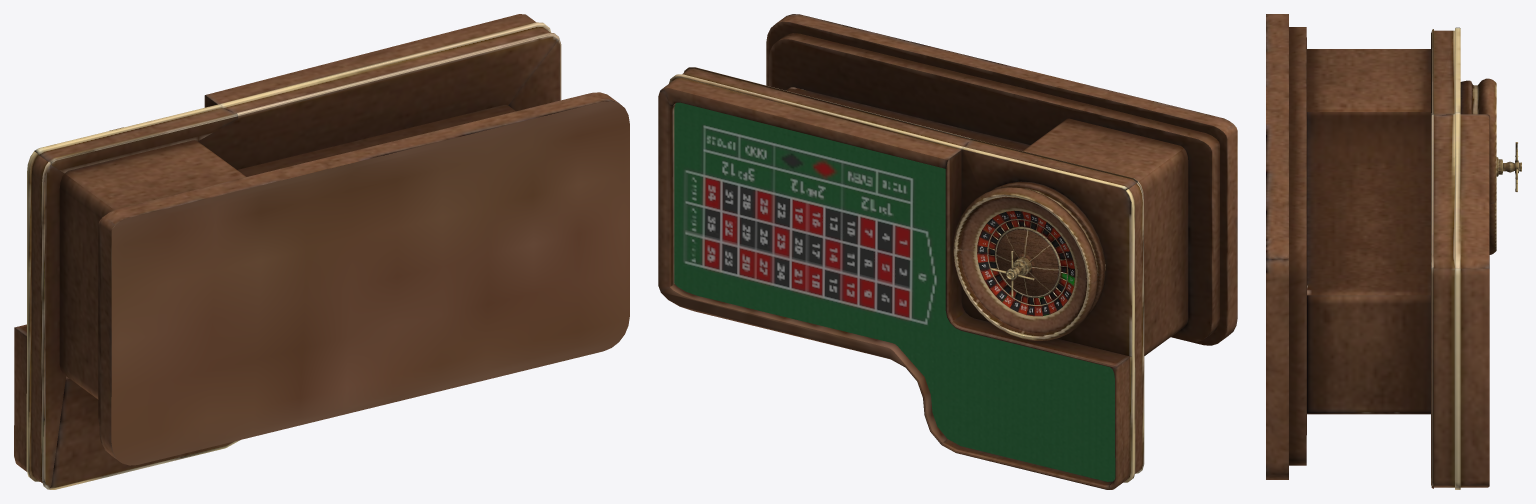
The model's file is Roulette.fbx.
3 views of the same model, side by side, from view 1: azimuth 30°, elevation 25°; view 2: azimuth 150°, elevation 25°; view 3: azimuth 270°, elevation 25° (orthographic). The views are drawn at different scales.
Visible parts, largest first — view 1: Table_003; view 2: Table_003; view 3: Table_003.
Part boxes in pixels (x1=…): Table_003: x1=14, y1=14, x2=629, y2=489; Table_003: x1=658, y1=14, x2=1237, y2=489; Table_003: x1=1266, y1=14, x2=1521, y2=489.
Size of the model in its own units: 0.000701 by 0.000422 by 0.0003.
3 materials, 3 textured.
